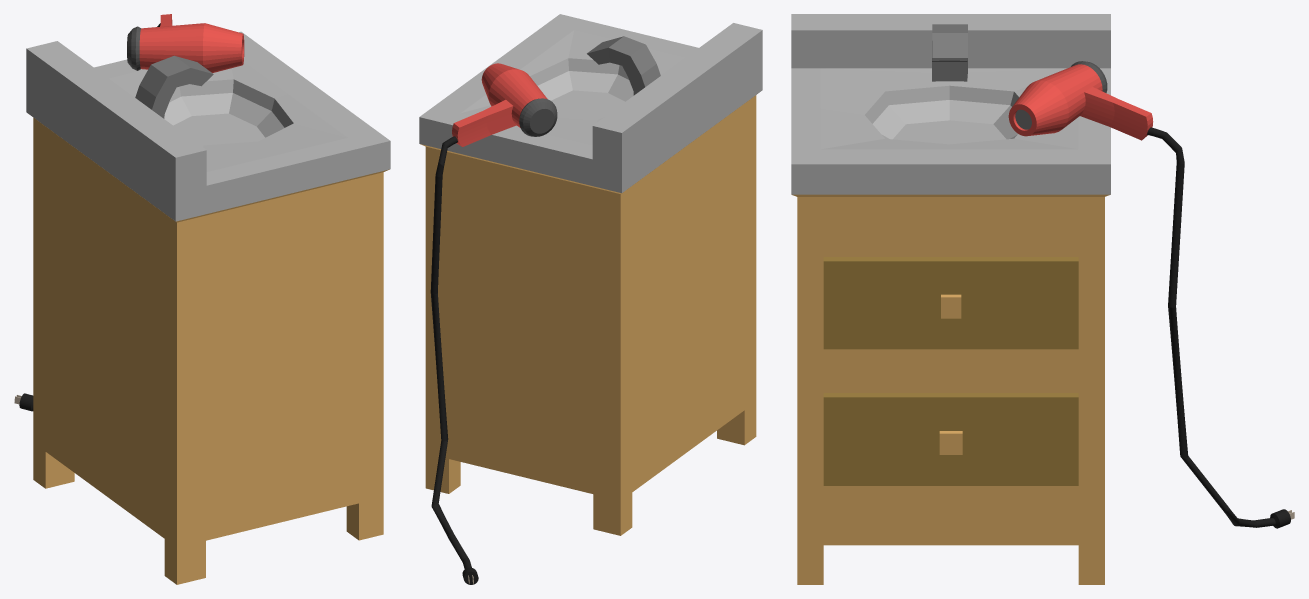
The model's file is sink.fbx.
The picture shows the model from 3 angles, left to right: view 1: azimuth 30°, elevation 25°; view 2: azimuth 150°, elevation 25°; view 3: azimuth 270°, elevation 25°; orthographic projection. The views are drawn at different scales.
Parts seen in each view (by area): view 1: sink, hairdryer; view 2: sink, hairdryer, cord; view 3: sink, hairdryer, cord.
Part boxes in pixels (x1,y1,x2,y2): sink: [26, 31, 390, 584]; hairdryer: [127, 14, 244, 72]; sink: [419, 14, 762, 535]; hairdryer: [452, 63, 557, 146]; cord: [430, 136, 478, 584]; sink: [791, 14, 1110, 584]; hairdryer: [1008, 61, 1153, 140]; cord: [1147, 127, 1294, 528].
Bounding box in the file's own units: 352 × 693 × 641.
